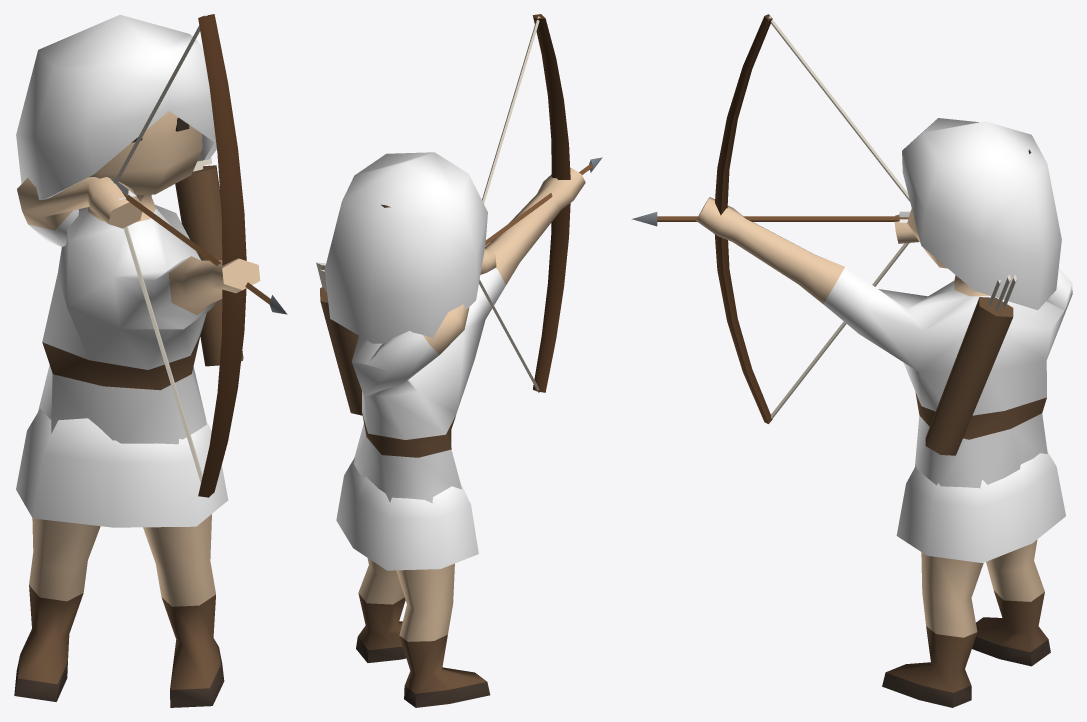
Rendered from arch.glb.
3 views of the same model, side by side, from view 1: azimuth 30°, elevation 25°; view 2: azimuth 150°, elevation 25°; view 3: azimuth 270°, elevation 25° (orthographic). The views are drawn at different scales.
Visible parts, largest first — view 1: arch; view 2: arch; view 3: arch.
Part boxes in pixels (left/top/right/bottom): arch: left=14, top=14, right=287, bottom=707; arch: left=316, top=14, right=602, bottom=707; arch: left=631, top=14, right=1072, bottom=707.
Bounding box in the file's own units: 0.5513 × 1.92 × 1.19.
